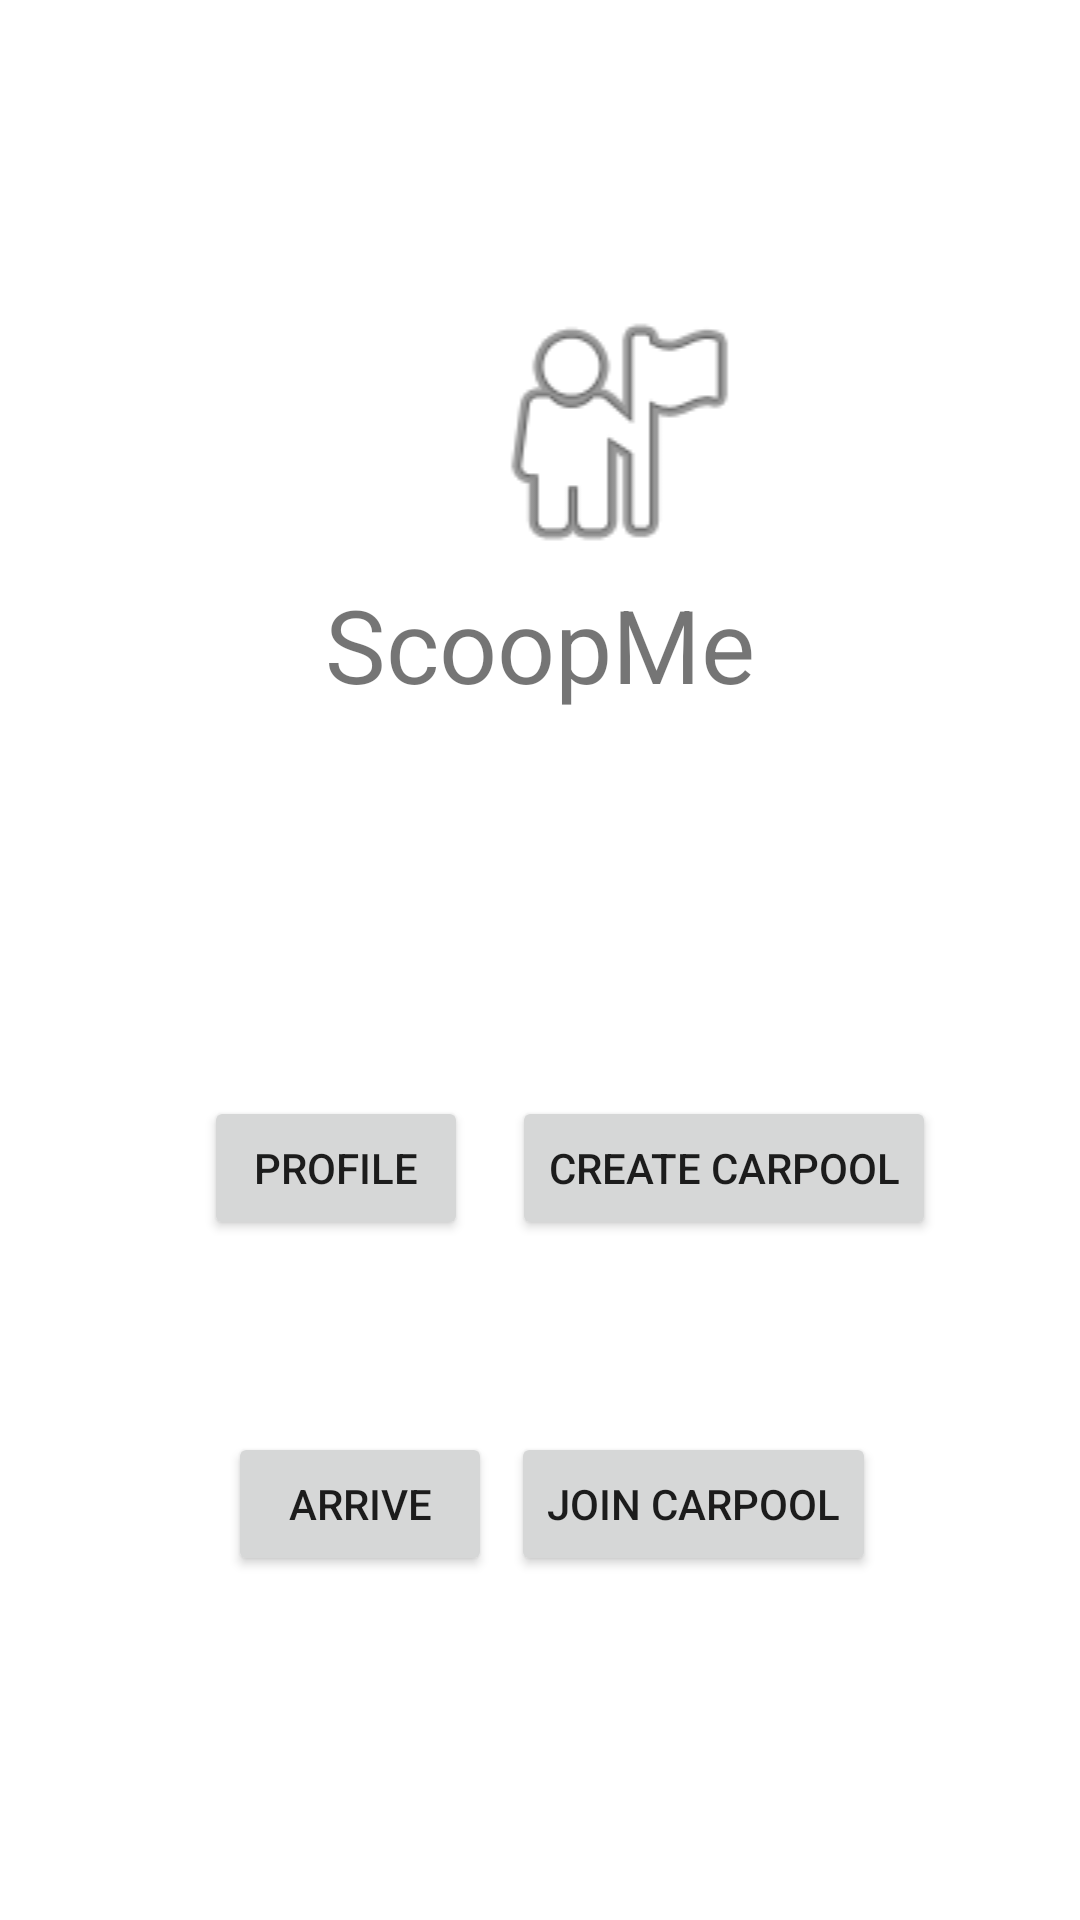

Named icons in this screenshot (1080w x 1920h) and their bounding boxes, [x1,y1,x2,y2]:
myplaces: [511,324,728,540]
